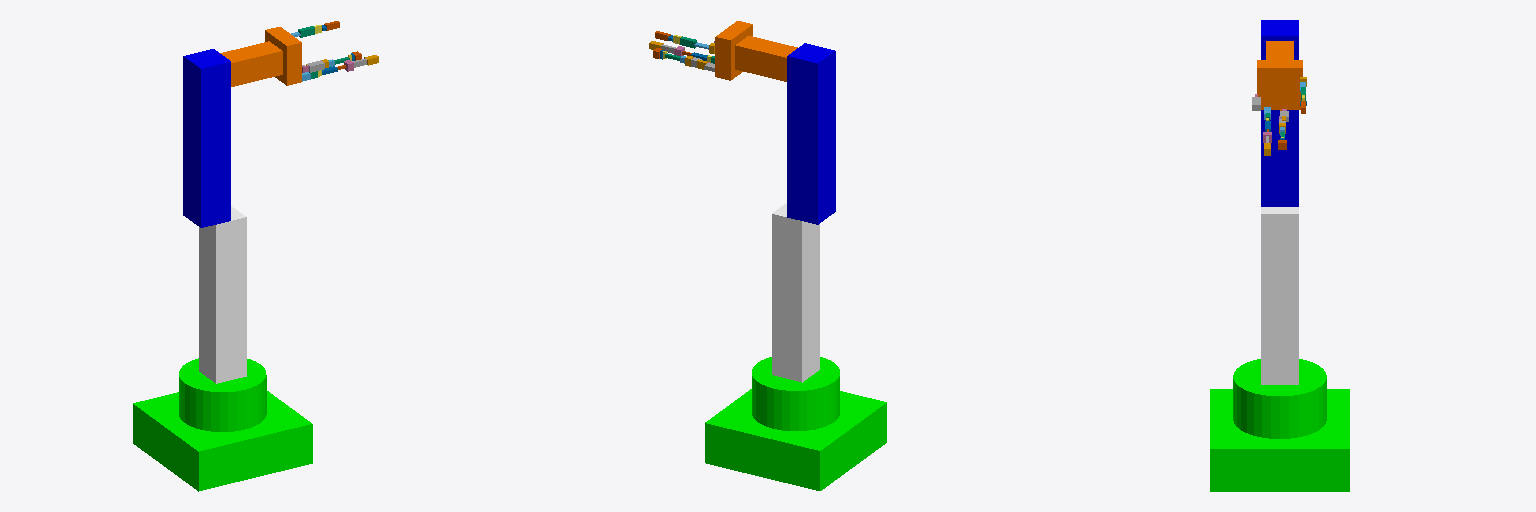
--- What the picture shows (computed from the rendered views, not written in the file) ---
The picture shows the robot from 3 angles, left to right: view 1: azimuth 30°, elevation 25°; view 2: azimuth 150°, elevation 25°; view 3: azimuth 270°, elevation 25°; orthographic projection.
Model robot with 33 links and 32 joints (29 revolute, 1 continuous, 2 fixed), rooted at base_link, posed every joint at zero.
Visible links, largest first — view 1: base_link, arm_link, support_link, wrist_link, palm_link; view 2: base_link, arm_link, support_link, wrist_link, palm_link; view 3: base_link, support_link, arm_link, palm_link, wrist_link.
Boxes of the visible links, x1,y1,x2,y2 form: base_link: [133, 358, 312, 491]; arm_link: [183, 49, 230, 227]; support_link: [199, 206, 246, 383]; wrist_link: [220, 41, 282, 86]; palm_link: [265, 27, 301, 85]; base_link: [705, 357, 886, 490]; arm_link: [787, 43, 835, 224]; support_link: [772, 203, 819, 382]; wrist_link: [735, 36, 797, 81]; palm_link: [715, 21, 752, 80]; base_link: [1210, 359, 1349, 491]; support_link: [1261, 207, 1298, 384]; arm_link: [1261, 20, 1298, 206]; palm_link: [1257, 60, 1302, 109]; wrist_link: [1266, 41, 1293, 59].
Size in the robot's own frame: 1.36 by 0.75 by 2.52 metres.
Geometry: primitives only (box / cylinder / sphere), no mesh files.

The robot description file, URDF, robot "robot":
<?xml version='1.0' encoding='utf-8'?>
<robot name="robot">
  <link name="base_link">
    <visual>
      <origin xyz="0 0 0.125" rpy="0 0 0" />
      <geometry>
        <box size="0.75 0.75 0.25" />
      </geometry>
      <material name="green" />
    </visual>
    <visual>
      <origin xyz="0 0 0.375" rpy="0 0 0" />
      <geometry>
        <cylinder length="0.25" radius="0.25" />
      </geometry>
      <material name="green">
        <color rgba="0 1 0 1" />
      </material>
    </visual>
    <collision>
      <geometry>
        <box size="0.75 0.75 0.5" />
      </geometry>
    </collision>
    <inertial>
      <mass value="0.5" />
      <inertia ixx="0.034" ixy="0.0" ixz="0.0" iyy="0.034" iyz="0.0" izz="0.034" />
    </inertial>
  </link>
  <link name="support_link">
    <visual>
      <origin xyz="0 0 0.5" rpy="0 0 0" />
      <geometry>
        <box size="0.2 0.2 1" />
      </geometry>
      <material name="white">
        <color rgba="1 1 1 1" />
      </material>
    </visual>
    <collision>
      <geometry>
        <box size="0.2 0.2 1" />
      </geometry>
    </collision>
    <inertial>
      <mass value="0.1" />
      <inertia ixx="0.01" ixy="0.0" ixz="0.0" iyy="0.01" iyz="0.0" izz="0.01" />
    </inertial>
  </link>
  <joint name="support_joint" type="continuous">
    <origin xyz="0 0 0.5" rpy="0 0 0" />
    <parent link="base_link" />
    <child link="support_link" />
    <axis xyz="0 0 1" />
  </joint>
  <link name="arm_link">
    <visual>
      <origin xyz="0 0 0.5" rpy="0 0 0" />
      <geometry>
        <box size="0.2 0.2 1" />
      </geometry>
      <material name="blue">
        <color rgba="0 0 1 1" />
      </material>
    </visual>
    <collision>
      <geometry>
        <box size="0.2 0.2 1" />
      </geometry>
    </collision>
    <inertial>
      <mass value="0.1" />
      <inertia ixx="0.01" ixy="0.0" ixz="0.0" iyy="0.01" iyz="0.0" izz="0.01" />
    </inertial>
  </link>
  <joint name="arm_joint" type="revolute">
    <origin xyz="-0.1 0 1" rpy="0 0 0" />
    <parent link="support_link" />
    <child link="arm_link" />
    <axis xyz="0 1 0" />
    <limit lower="-3.14" upper="3.14" effort="1.0" velocity="1.0" />
  </joint>
  <link name="wrist_link">
    <visual>
      <origin xyz="0 0 0.25" rpy="0 0 0" />
      <geometry>
        <box size="0.15 0.15 0.5" />
      </geometry>
      <material name="orange">
        <color rgba="1 0.5 0 1" />
      </material>
    </visual>
    <collision>
      <geometry>
        <box size="0.15 0.15 0.5" />
      </geometry>
    </collision>
    <inertial>
      <mass value="0.1" />
      <inertia ixx="0.01" ixy="0.0" ixz="0.0" iyy="0.01" iyz="0.0" izz="0.01" />
    </inertial>
  </link>
  <joint name="wrist_joint" type="fixed">
    <origin xyz="0 0 0.9" rpy="0 1.571 0" />
    <parent link="arm_link" />
    <child link="wrist_link" />
  </joint>
  <link name="palm_link">
    <visual>
      <origin xyz="0 0 0.05" rpy="0 0 0" />
      <geometry>
        <box size="0.25 0.25 0.1" />
      </geometry>
      <material name="orange" />
    </visual>
    <collision>
      <geometry>
        <box size="0.25 0.25 0.1" />
      </geometry>
    </collision>
    <inertial>
      <mass value="0.1" />
      <inertia ixx="0.01" ixy="0.0" ixz="0.0" iyy="0.01" iyz="0.0" izz="0.01" />
    </inertial>
  </link>
  <joint name="palm_joint" type="fixed">
    <origin xyz="0 0 0.45" rpy="0 0 0" />
    <parent link="wrist_link" />
    <child link="palm_link" />
  </joint>
  <link name="finger_link_0_0">
    <visual>
      <origin xyz="0 0 0.0465" rpy="0 0 0" />
      <geometry>
        <box size="0.014 0.023 0.093" />
      </geometry>
    </visual>
    <collision>
      <geometry>
        <box size="0.014 0.023 0.093" />
      </geometry>
    </collision>
    <inertial>
      <mass value="0.009" />
      <inertia ixx="0.0" iyy="0.0" izz="0.0" ixy="0" ixz="0" iyz="0" />
    </inertial>
  </link>
  <joint name="finger_joint_palm_link_to_finger_link_0_0" type="revolute">
    <origin xyz="0.125 0.014 0.1" rpy="0 0 0" />
    <parent link="palm_link" />
    <child link="finger_link_0_0" />
    <axis xyz="0.0 1.0 0.0" />
    <limit lower="-3.142" upper="3.142" effort="10" velocity="10" />
  </joint>
  <link name="finger_link_0_1">
    <visual>
      <origin xyz="0 0 0.034" rpy="0 0 0" />
      <geometry>
        <box size="0.024 0.038 0.068" />
      </geometry>
    </visual>
    <collision>
      <geometry>
        <box size="0.024 0.038 0.068" />
      </geometry>
    </collision>
    <inertial>
      <mass value="0.019" />
      <inertia ixx="0.0" iyy="0.0" izz="0.0" ixy="0" ixz="0" iyz="0" />
    </inertial>
  </link>
  <joint name="finger_joint_finger_link_0_0_to_finger_link_0_1" type="revolute">
    <origin xyz="0.0 0.0 0.093" rpy="0 0 0" />
    <parent link="finger_link_0_0" />
    <child link="finger_link_0_1" />
    <axis xyz="0.0 1.0 0.0" />
    <limit lower="-3.142" upper="3.142" effort="10" velocity="10" />
  </joint>
  <link name="finger_link_0_2">
    <visual>
      <origin xyz="0 0 0.0255" rpy="0 0 0" />
      <geometry>
        <box size="0.043 0.038 0.051" />
      </geometry>
    </visual>
    <collision>
      <geometry>
        <box size="0.043 0.038 0.051" />
      </geometry>
    </collision>
    <inertial>
      <mass value="0.025" />
      <inertia ixx="0.0" iyy="0.0" izz="0.0" ixy="0" ixz="0" iyz="0" />
    </inertial>
  </link>
  <joint name="finger_joint_finger_link_0_1_to_finger_link_0_2" type="revolute">
    <origin xyz="0.0 0.0 0.068" rpy="0 0 0" />
    <parent link="finger_link_0_1" />
    <child link="finger_link_0_2" />
    <axis xyz="0.0 1.0 0.0" />
    <limit lower="-3.142" upper="3.142" effort="10" velocity="10" />
  </joint>
  <link name="finger_link_0_3">
    <visual>
      <origin xyz="0 0 0.018" rpy="0 0 0" />
      <geometry>
        <box size="0.049 0.038 0.036" />
      </geometry>
    </visual>
    <collision>
      <geometry>
        <box size="0.049 0.038 0.036" />
      </geometry>
    </collision>
    <inertial>
      <mass value="0.02" />
      <inertia ixx="0.0" iyy="0.0" izz="0.0" ixy="0" ixz="0" iyz="0" />
    </inertial>
  </link>
  <joint name="finger_joint_finger_link_0_2_to_finger_link_0_3" type="revolute">
    <origin xyz="0.0 0.0 0.051" rpy="0 0 0" />
    <parent link="finger_link_0_2" />
    <child link="finger_link_0_3" />
    <axis xyz="1.0 0.0 0.0" />
    <limit lower="-3.142" upper="3.142" effort="10" velocity="10" />
  </joint>
  <link name="finger_link_0_4">
    <visual>
      <origin xyz="0 0 0.0195" rpy="0 0 0" />
      <geometry>
        <box size="0.033 0.025 0.039" />
      </geometry>
    </visual>
    <collision>
      <geometry>
        <box size="0.033 0.025 0.039" />
      </geometry>
    </collision>
    <inertial>
      <mass value="0.01" />
      <inertia ixx="0.0" iyy="0.0" izz="0.0" ixy="0" ixz="0" iyz="0" />
    </inertial>
  </link>
  <joint name="finger_joint_finger_link_0_3_to_finger_link_0_4" type="revolute">
    <origin xyz="0.0 0.0 0.036" rpy="0 0 0" />
    <parent link="finger_link_0_3" />
    <child link="finger_link_0_4" />
    <axis xyz="0.0 1.0 0.0" />
    <limit lower="-3.142" upper="3.142" effort="10" velocity="10" />
  </joint>
  <link name="finger_link_0_5">
    <visual>
      <origin xyz="0 0 0.049" rpy="0 0 0" />
      <geometry>
        <box size="0.019 0.022 0.098" />
      </geometry>
    </visual>
    <collision>
      <geometry>
        <box size="0.019 0.022 0.098" />
      </geometry>
    </collision>
    <inertial>
      <mass value="0.012" />
      <inertia ixx="0.0" iyy="0.0" izz="0.0" ixy="0" ixz="0" iyz="0" />
    </inertial>
  </link>
  <joint name="finger_joint_finger_link_0_4_to_finger_link_0_5" type="revolute">
    <origin xyz="0.0 0.0 0.039" rpy="0 0 0" />
    <parent link="finger_link_0_4" />
    <child link="finger_link_0_5" />
    <axis xyz="0.0 1.0 0.0" />
    <limit lower="-3.142" upper="3.142" effort="10" velocity="10" />
  </joint>
  <link name="finger_link_0_6">
    <visual>
      <origin xyz="0 0 0.008" rpy="0 0 0" />
      <geometry>
        <box size="0.046 0.013 0.016" />
      </geometry>
    </visual>
    <collision>
      <geometry>
        <box size="0.046 0.013 0.016" />
      </geometry>
    </collision>
    <inertial>
      <mass value="0.003" />
      <inertia ixx="0.0" iyy="0.0" izz="0.0" ixy="0" ixz="0" iyz="0" />
    </inertial>
  </link>
  <joint name="finger_joint_finger_link_0_5_to_finger_link_0_6" type="revolute">
    <origin xyz="0.0 0.0 0.098" rpy="0 0 0" />
    <parent link="finger_link_0_5" />
    <child link="finger_link_0_6" />
    <axis xyz="0.0 1.0 0.0" />
    <limit lower="-3.142" upper="3.142" effort="10" velocity="10" />
  </joint>
  <link name="finger_link_0_7">
    <visual>
      <origin xyz="0 0 0.0085" rpy="0 0 0" />
      <geometry>
        <box size="0.049 0.024 0.017" />
      </geometry>
    </visual>
    <collision>
      <geometry>
        <box size="0.049 0.024 0.017" />
      </geometry>
    </collision>
    <inertial>
      <mass value="0.006" />
      <inertia ixx="0.0" iyy="0.0" izz="0.0" ixy="0" ixz="0" iyz="0" />
    </inertial>
  </link>
  <joint name="finger_joint_finger_link_0_6_to_finger_link_0_7" type="revolute">
    <origin xyz="0.0 0.0 0.016" rpy="0 0 0" />
    <parent link="finger_link_0_6" />
    <child link="finger_link_0_7" />
    <axis xyz="0.0 1.0 0.0" />
    <limit lower="-3.142" upper="3.142" effort="10" velocity="10" />
  </joint>
  <link name="finger_link_0_8">
    <visual>
      <origin xyz="0 0 0.02" rpy="0 0 0" />
      <geometry>
        <box size="0.044 0.049 0.04" />
      </geometry>
    </visual>
    <collision>
      <geometry>
        <box size="0.044 0.049 0.04" />
      </geometry>
    </collision>
    <inertial>
      <mass value="0.026" />
      <inertia ixx="0.0" iyy="0.0" izz="0.0" ixy="0" ixz="0" iyz="0" />
    </inertial>
  </link>
  <joint name="finger_joint_finger_link_0_7_to_finger_link_0_8" type="revolute">
    <origin xyz="0.0 0.0 0.017" rpy="0 0 0" />
    <parent link="finger_link_0_7" />
    <child link="finger_link_0_8" />
    <axis xyz="1.0 0.0 0.0" />
    <limit lower="-3.142" upper="3.142" effort="10" velocity="10" />
  </joint>
  <link name="finger_link_1_0">
    <visual>
      <origin xyz="0 0 0.021" rpy="0 0 0" />
      <geometry>
        <box size="0.035 0.012 0.042" />
      </geometry>
    </visual>
    <collision>
      <geometry>
        <box size="0.035 0.012 0.042" />
      </geometry>
    </collision>
    <inertial>
      <mass value="0.005" />
      <inertia ixx="0.0" iyy="0.0" izz="0.0" ixy="0" ixz="0" iyz="0" />
    </inertial>
  </link>
  <joint name="finger_joint_palm_link_to_finger_link_1_0" type="revolute">
    <origin xyz="0.047 -0.125 0.1" rpy="0 0 0" />
    <parent link="palm_link" />
    <child link="finger_link_1_0" />
    <axis xyz="1.0 0.0 0.0" />
    <limit lower="-3.142" upper="3.142" effort="10" velocity="10" />
  </joint>
  <link name="finger_link_1_1">
    <visual>
      <origin xyz="0 0 0.0485" rpy="0 0 0" />
      <geometry>
        <box size="0.038 0.044 0.097" />
      </geometry>
    </visual>
    <collision>
      <geometry>
        <box size="0.038 0.044 0.097" />
      </geometry>
    </collision>
    <inertial>
      <mass value="0.049" />
      <inertia ixx="0.0" iyy="0.0" izz="0.0" ixy="0" ixz="0" iyz="0" />
    </inertial>
  </link>
  <joint name="finger_joint_finger_link_1_0_to_finger_link_1_1" type="revolute">
    <origin xyz="0.0 0.0 0.042" rpy="0 0 0" />
    <parent link="finger_link_1_0" />
    <child link="finger_link_1_1" />
    <axis xyz="1.0 0.0 0.0" />
    <limit lower="-3.142" upper="3.142" effort="10" velocity="10" />
  </joint>
  <link name="finger_link_2_0">
    <visual>
      <origin xyz="0 0 0.015" rpy="0 0 0" />
      <geometry>
        <box size="0.049 0.041 0.03" />
      </geometry>
    </visual>
    <collision>
      <geometry>
        <box size="0.049 0.041 0.03" />
      </geometry>
    </collision>
    <inertial>
      <mass value="0.018" />
      <inertia ixx="0.0" iyy="0.0" izz="0.0" ixy="0" ixz="0" iyz="0" />
    </inertial>
  </link>
  <joint name="finger_joint_palm_link_to_finger_link_2_0" type="revolute">
    <origin xyz="-0.049 0.125 0.1" rpy="0 0 0" />
    <parent link="palm_link" />
    <child link="finger_link_2_0" />
    <axis xyz="-1.0 0.0 0.0" />
    <limit lower="-3.142" upper="3.142" effort="10" velocity="10" />
  </joint>
  <link name="finger_link_2_1">
    <visual>
      <origin xyz="0 0 0.0485" rpy="0 0 0" />
      <geometry>
        <box size="0.012 0.032 0.097" />
      </geometry>
    </visual>
    <collision>
      <geometry>
        <box size="0.012 0.032 0.097" />
      </geometry>
    </collision>
    <inertial>
      <mass value="0.011" />
      <inertia ixx="0.0" iyy="0.0" izz="0.0" ixy="0" ixz="0" iyz="0" />
    </inertial>
  </link>
  <joint name="finger_joint_finger_link_2_0_to_finger_link_2_1" type="revolute">
    <origin xyz="0.0 0.0 0.03" rpy="0 0 0" />
    <parent link="finger_link_2_0" />
    <child link="finger_link_2_1" />
    <axis xyz="0.0 1.0 0.0" />
    <limit lower="-3.142" upper="3.142" effort="10" velocity="10" />
  </joint>
  <link name="finger_link_2_2">
    <visual>
      <origin xyz="0 0 0.048" rpy="0 0 0" />
      <geometry>
        <box size="0.042 0.03 0.096" />
      </geometry>
    </visual>
    <collision>
      <geometry>
        <box size="0.042 0.03 0.096" />
      </geometry>
    </collision>
    <inertial>
      <mass value="0.036" />
      <inertia ixx="0.0" iyy="0.0" izz="0.0" ixy="0" ixz="0" iyz="0" />
    </inertial>
  </link>
  <joint name="finger_joint_finger_link_2_1_to_finger_link_2_2" type="revolute">
    <origin xyz="0.0 0.0 0.097" rpy="0 0 0" />
    <parent link="finger_link_2_1" />
    <child link="finger_link_2_2" />
    <axis xyz="1.0 0.0 0.0" />
    <limit lower="-3.142" upper="3.142" effort="10" velocity="10" />
  </joint>
  <link name="finger_link_2_3">
    <visual>
      <origin xyz="0 0 0.0225" rpy="0 0 0" />
      <geometry>
        <box size="0.046 0.015 0.045" />
      </geometry>
    </visual>
    <collision>
      <geometry>
        <box size="0.046 0.015 0.045" />
      </geometry>
    </collision>
    <inertial>
      <mass value="0.009" />
      <inertia ixx="0.0" iyy="0.0" izz="0.0" ixy="0" ixz="0" iyz="0" />
    </inertial>
  </link>
  <joint name="finger_joint_finger_link_2_2_to_finger_link_2_3" type="revolute">
    <origin xyz="0.0 0.0 0.096" rpy="0 0 0" />
    <parent link="finger_link_2_2" />
    <child link="finger_link_2_3" />
    <axis xyz="0.0 1.0 0.0" />
    <limit lower="-3.142" upper="3.142" effort="10" velocity="10" />
  </joint>
  <link name="finger_link_2_4">
    <visual>
      <origin xyz="0 0 0.015" rpy="0 0 0" />
      <geometry>
        <box size="0.017 0.041 0.03" />
      </geometry>
    </visual>
    <collision>
      <geometry>
        <box size="0.017 0.041 0.03" />
      </geometry>
    </collision>
    <inertial>
      <mass value="0.006" />
      <inertia ixx="0.0" iyy="0.0" izz="0.0" ixy="0" ixz="0" iyz="0" />
    </inertial>
  </link>
  <joint name="finger_joint_finger_link_2_3_to_finger_link_2_4" type="revolute">
    <origin xyz="0.0 0.0 0.045" rpy="0 0 0" />
    <parent link="finger_link_2_3" />
    <child link="finger_link_2_4" />
    <axis xyz="0.0 1.0 0.0" />
    <limit lower="-3.142" upper="3.142" effort="10" velocity="10" />
  </joint>
  <link name="finger_link_2_5">
    <visual>
      <origin xyz="0 0 0.044" rpy="0 0 0" />
      <geometry>
        <box size="0.036 0.025 0.088" />
      </geometry>
    </visual>
    <collision>
      <geometry>
        <box size="0.036 0.025 0.088" />
      </geometry>
    </collision>
    <inertial>
      <mass value="0.024" />
      <inertia ixx="0.0" iyy="0.0" izz="0.0" ixy="0" ixz="0" iyz="0" />
    </inertial>
  </link>
  <joint name="finger_joint_finger_link_2_4_to_finger_link_2_5" type="revolute">
    <origin xyz="0.0 0.0 0.03" rpy="0 0 0" />
    <parent link="finger_link_2_4" />
    <child link="finger_link_2_5" />
    <axis xyz="0.0 1.0 0.0" />
    <limit lower="-3.142" upper="3.142" effort="10" velocity="10" />
  </joint>
  <link name="finger_link_3_0">
    <visual>
      <origin xyz="0 0 0.019" rpy="0 0 0" />
      <geometry>
        <box size="0.016 0.029 0.038" />
      </geometry>
    </visual>
    <collision>
      <geometry>
        <box size="0.016 0.029 0.038" />
      </geometry>
    </collision>
    <inertial>
      <mass value="0.005" />
      <inertia ixx="0.0" iyy="0.0" izz="0.0" ixy="0" ixz="0" iyz="0" />
    </inertial>
  </link>
  <joint name="finger_joint_palm_link_to_finger_link_3_0" type="revolute">
    <origin xyz="0.125 0.023 0.1" rpy="0 0 0" />
    <parent link="palm_link" />
    <child link="finger_link_3_0" />
    <axis xyz="0.0 1.0 0.0" />
    <limit lower="-3.142" upper="3.142" effort="10" velocity="10" />
  </joint>
  <link name="finger_link_3_1">
    <visual>
      <origin xyz="0 0 0.039" rpy="0 0 0" />
      <geometry>
        <box size="0.025 0.049 0.078" />
      </geometry>
    </visual>
    <collision>
      <geometry>
        <box size="0.025 0.049 0.078" />
      </geometry>
    </collision>
    <inertial>
      <mass value="0.029" />
      <inertia ixx="0.0" iyy="0.0" izz="0.0" ixy="0" ixz="0" iyz="0" />
    </inertial>
  </link>
  <joint name="finger_joint_finger_link_3_0_to_finger_link_3_1" type="revolute">
    <origin xyz="0.0 0.0 0.038" rpy="0 0 0" />
    <parent link="finger_link_3_0" />
    <child link="finger_link_3_1" />
    <axis xyz="0.0 1.0 0.0" />
    <limit lower="-3.142" upper="3.142" effort="10" velocity="10" />
  </joint>
  <link name="finger_link_3_2">
    <visual>
      <origin xyz="0 0 0.0295" rpy="0 0 0" />
      <geometry>
        <box size="0.046 0.021 0.059" />
      </geometry>
    </visual>
    <collision>
      <geometry>
        <box size="0.046 0.021 0.059" />
      </geometry>
    </collision>
    <inertial>
      <mass value="0.017" />
      <inertia ixx="0.0" iyy="0.0" izz="0.0" ixy="0" ixz="0" iyz="0" />
    </inertial>
  </link>
  <joint name="finger_joint_finger_link_3_1_to_finger_link_3_2" type="revolute">
    <origin xyz="0.0 0.0 0.078" rpy="0 0 0" />
    <parent link="finger_link_3_1" />
    <child link="finger_link_3_2" />
    <axis xyz="0.0 1.0 0.0" />
    <limit lower="-3.142" upper="3.142" effort="10" velocity="10" />
  </joint>
  <link name="finger_link_4_0">
    <visual>
      <origin xyz="0 0 0.04" rpy="0 0 0" />
      <geometry>
        <box size="0.037 0.036 0.08" />
      </geometry>
    </visual>
    <collision>
      <geometry>
        <box size="0.037 0.036 0.08" />
      </geometry>
    </collision>
    <inertial>
      <mass value="0.032" />
      <inertia ixx="0.0" iyy="0.0" izz="0.0" ixy="0" ixz="0" iyz="0" />
    </inertial>
  </link>
  <joint name="finger_joint_palm_link_to_finger_link_4_0" type="revolute">
    <origin xyz="0.125 -0.065 0.1" rpy="0 0 0" />
    <parent link="palm_link" />
    <child link="finger_link_4_0" />
    <axis xyz="0.0 1.0 0.0" />
    <limit lower="-3.142" upper="3.142" effort="10" velocity="10" />
  </joint>
  <link name="finger_link_4_1">
    <visual>
      <origin xyz="0 0 0.0255" rpy="0 0 0" />
      <geometry>
        <box size="0.042 0.024 0.051" />
      </geometry>
    </visual>
    <collision>
      <geometry>
        <box size="0.042 0.024 0.051" />
      </geometry>
    </collision>
    <inertial>
      <mass value="0.015" />
      <inertia ixx="0.0" iyy="0.0" izz="0.0" ixy="0" ixz="0" iyz="0" />
    </inertial>
  </link>
  <joint name="finger_joint_finger_link_4_0_to_finger_link_4_1" type="revolute">
    <origin xyz="0.0 0.0 0.08" rpy="0 0 0" />
    <parent link="finger_link_4_0" />
    <child link="finger_link_4_1" />
    <axis xyz="1.0 1.0 0.0" />
    <limit lower="-3.142" upper="3.142" effort="10" velocity="10" />
  </joint>
  <link name="finger_link_4_2">
    <visual>
      <origin xyz="0 0 0.0135" rpy="0 0 0" />
      <geometry>
        <box size="0.038 0.016 0.027" />
      </geometry>
    </visual>
    <collision>
      <geometry>
        <box size="0.038 0.016 0.027" />
      </geometry>
    </collision>
    <inertial>
      <mass value="0.005" />
      <inertia ixx="0.0" iyy="0.0" izz="0.0" ixy="0" ixz="0" iyz="0" />
    </inertial>
  </link>
  <joint name="finger_joint_finger_link_4_1_to_finger_link_4_2" type="revolute">
    <origin xyz="0.0 0.0 0.051" rpy="0 0 0" />
    <parent link="finger_link_4_1" />
    <child link="finger_link_4_2" />
    <axis xyz="0.0 1.0 0.0" />
    <limit lower="-3.142" upper="3.142" effort="10" velocity="10" />
  </joint>
  <link name="finger_link_4_3">
    <visual>
      <origin xyz="0 0 0.05" rpy="0 0 0" />
      <geometry>
        <box size="0.021 0.034 0.1" />
      </geometry>
    </visual>
    <collision>
      <geometry>
        <box size="0.021 0.034 0.1" />
      </geometry>
    </collision>
    <inertial>
      <mass value="0.021" />
      <inertia ixx="0.0" iyy="0.0" izz="0.0" ixy="0" ixz="0" iyz="0" />
    </inertial>
  </link>
  <joint name="finger_joint_finger_link_4_2_to_finger_link_4_3" type="revolute">
    <origin xyz="0.0 0.0 0.027" rpy="0 0 0" />
    <parent link="finger_link_4_2" />
    <child link="finger_link_4_3" />
    <axis xyz="0.0 1.0 0.0" />
    <limit lower="-3.142" upper="3.142" effort="10" velocity="10" />
  </joint>
  <link name="finger_link_4_4">
    <visual>
      <origin xyz="0 0 0.0315" rpy="0 0 0" />
      <geometry>
        <box size="0.017 0.013 0.063" />
      </geometry>
    </visual>
    <collision>
      <geometry>
        <box size="0.017 0.013 0.063" />
      </geometry>
    </collision>
    <inertial>
      <mass value="0.004" />
      <inertia ixx="0.0" iyy="0.0" izz="0.0" ixy="0" ixz="0" iyz="0" />
    </inertial>
  </link>
  <joint name="finger_joint_finger_link_4_3_to_finger_link_4_4" type="revolute">
    <origin xyz="0.0 0.0 0.1" rpy="0 0 0" />
    <parent link="finger_link_4_3" />
    <child link="finger_link_4_4" />
    <axis xyz="1.0 0.0 0.0" />
    <limit lower="-3.142" upper="3.142" effort="10" velocity="10" />
  </joint>
  <link name="finger_link_4_5">
    <visual>
      <origin xyz="0 0 0.02" rpy="0 0 0" />
      <geometry>
        <box size="0.047 0.05 0.04" />
      </geometry>
    </visual>
    <collision>
      <geometry>
        <box size="0.047 0.05 0.04" />
      </geometry>
    </collision>
    <inertial>
      <mass value="0.028" />
      <inertia ixx="0.0" iyy="0.0" izz="0.0" ixy="0" ixz="0" iyz="0" />
    </inertial>
  </link>
  <joint name="finger_joint_finger_link_4_4_to_finger_link_4_5" type="revolute">
    <origin xyz="0.0 0.0 0.063" rpy="0 0 0" />
    <parent link="finger_link_4_4" />
    <child link="finger_link_4_5" />
    <axis xyz="0.0 1.0 0.0" />
    <limit lower="-3.142" upper="3.142" effort="10" velocity="10" />
  </joint>
  <link name="finger_link_4_6">
    <visual>
      <origin xyz="0 0 0.047" rpy="0 0 0" />
      <geometry>
        <box size="0.033 0.018 0.094" />
      </geometry>
    </visual>
    <collision>
      <geometry>
        <box size="0.033 0.018 0.094" />
      </geometry>
    </collision>
    <inertial>
      <mass value="0.017" />
      <inertia ixx="0.0" iyy="0.0" izz="0.0" ixy="0" ixz="0" iyz="0" />
    </inertial>
  </link>
  <joint name="finger_joint_finger_link_4_5_to_finger_link_4_6" type="revolute">
    <origin xyz="0.0 0.0 0.04" rpy="0 0 0" />
    <parent link="finger_link_4_5" />
    <child link="finger_link_4_6" />
    <axis xyz="1.0 0.0 0.0" />
    <limit lower="-3.142" upper="3.142" effort="10" velocity="10" />
  </joint>
  <link name="finger_link_4_7">
    <visual>
      <origin xyz="0 0 0.038" rpy="0 0 0" />
      <geometry>
        <box size="0.037 0.038 0.076" />
      </geometry>
    </visual>
    <collision>
      <geometry>
        <box size="0.037 0.038 0.076" />
      </geometry>
    </collision>
    <inertial>
      <mass value="0.032" />
      <inertia ixx="0.0" iyy="0.0" izz="0.0" ixy="0" ixz="0" iyz="0" />
    </inertial>
  </link>
  <joint name="finger_joint_finger_link_4_6_to_finger_link_4_7" type="revolute">
    <origin xyz="0.0 0.0 0.094" rpy="0 0 0" />
    <parent link="finger_link_4_6" />
    <child link="finger_link_4_7" />
    <axis xyz="1.0 1.0 0.0" />
    <limit lower="-3.142" upper="3.142" effort="10" velocity="10" />
  </joint>
</robot>
